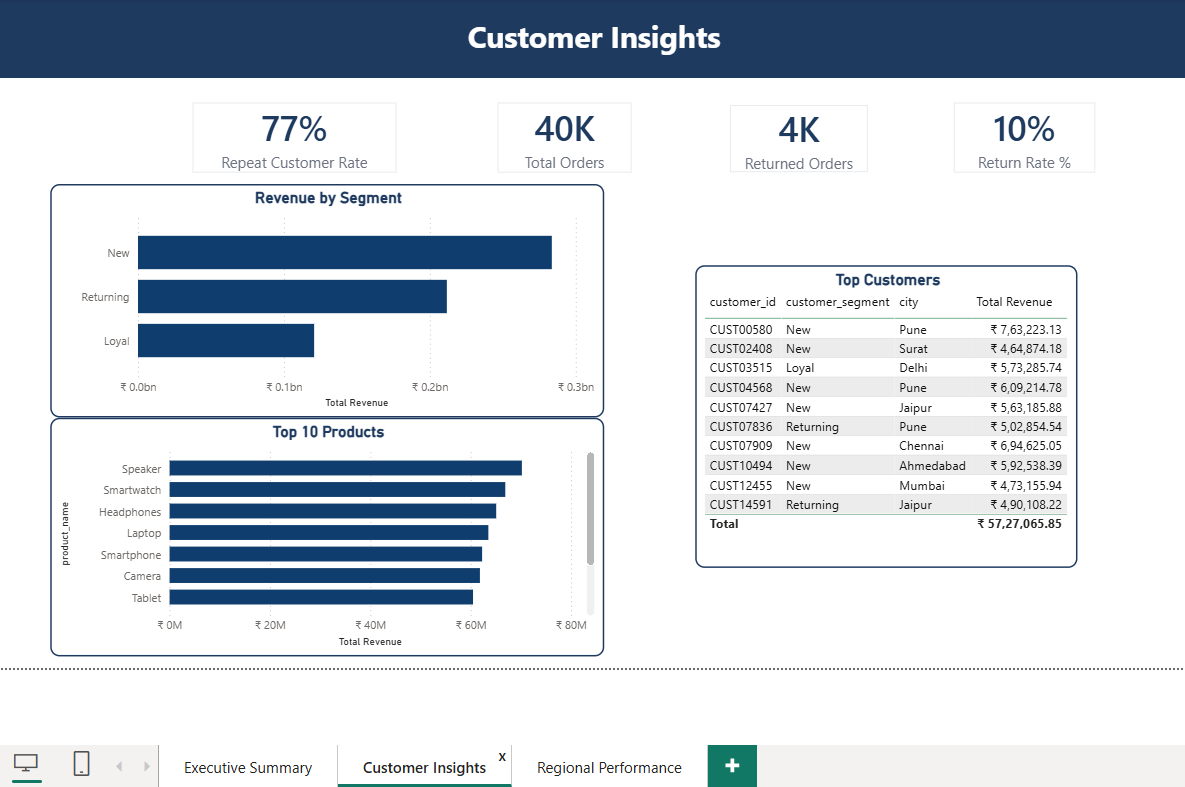

What the dashboard file says about the page in this screenshot:
{"tool":"powerbi","page":{"name":"Customer Insights","canvas":[1280,720],"ordinal":1},"visuals":[{"type":"shape","box":[0,0,1280.3,85.1],"z":0},{"type":"textbox","box":[0,1.4,1280.3,83.7],"z":1000},{"type":"cardVisual","fields":{"Data":["_Measures.Repeat Customer Rate"]},"box":[196.3,99.5,243.4,99.5],"z":2000},{"type":"cardVisual","fields":{"Data":["_Measures.Total Orders"]},"box":[524.5,99.5,168.1,99.5],"z":3000},{"type":"cardVisual","fields":{"Data":["_Measures.Returned Orders"]},"box":[774.6,102.2,172.1,96.8],"z":4000},{"type":"clusteredBarChart","title":"Revenue by Segment","fields":{"Category":["ecommerce_transactions.customer_segment"],"Y":["_Measures.Total Revenue"]},"box":[55.1,199,595.8,251.5],"z":5000},{"type":"barChart","title":" Top 10 Products","fields":{"Category":["ecommerce_transactions.product_name"],"Y":["_Measures.Total Revenue"]},"box":[55.1,450.5,595.8,256.9],"z":6000},{"type":"tableEx","title":"Top Customers","fields":{"Values":["ecommerce_transactions.customer_id","ecommerce_transactions.customer_segment","ecommerce_transactions.city","_Measures.Total Revenue"]},"box":[749.1,286.4,411.5,325.4],"z":7000},{"type":"cardVisual","fields":{"Data":["_Measures.Return Rate %"]},"box":[1015.3,99.5,176.2,99.5],"z":8000}]}

Visuals, with their boxes on the page's 1280x720 design canvas (x1, y1, x2, y2). These are canvas units, not pixel positions in the 1185x787 screenshot, which may show the page scaled, cropped or inside an application window:
shape: select_region(0, 0, 1280, 85)
textbox: select_region(0, 1, 1280, 85)
cardVisual - _Measures.Repeat Customer Rate: select_region(196, 100, 440, 199)
cardVisual - _Measures.Total Orders: select_region(524, 100, 693, 199)
cardVisual - _Measures.Returned Orders: select_region(775, 102, 947, 199)
"Revenue by Segment" clusteredBarChart: select_region(55, 199, 651, 450)
" Top 10 Products" barChart: select_region(55, 450, 651, 707)
"Top Customers" tableEx: select_region(749, 286, 1161, 612)
cardVisual - _Measures.Return Rate %: select_region(1015, 100, 1192, 199)
